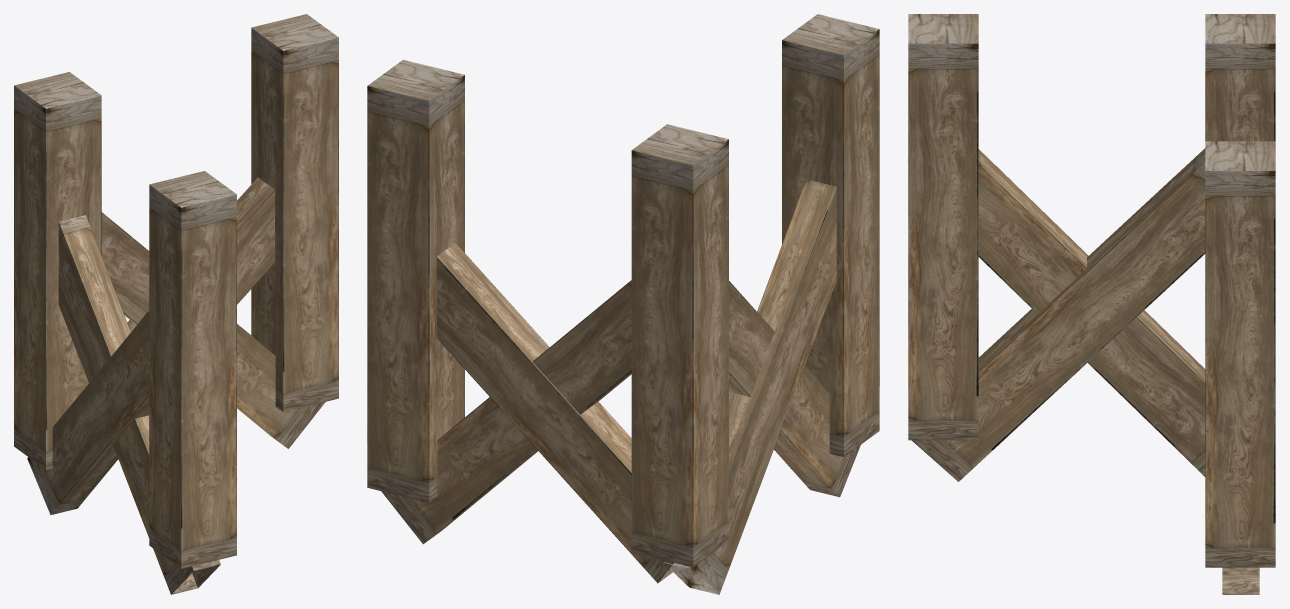
File: delimitator_b.dae
3 renders of one model, left to right at view 1: azimuth 30°, elevation 25°; view 2: azimuth 150°, elevation 25°; view 3: azimuth 270°, elevation 25°, orthographic. The views are drawn at different scales.
Visible parts, largest first — view 1: Limitador_b; view 2: Limitador_b; view 3: Limitador_b.
Boxes of the visible parts, left/top/right/bottom form: Limitador_b: left=14, top=14, right=338, bottom=594; Limitador_b: left=367, top=14, right=879, bottom=594; Limitador_b: left=908, top=14, right=1275, bottom=594.
Bounding box in the file's own units: 2.26 × 2.23 × 3.01.
